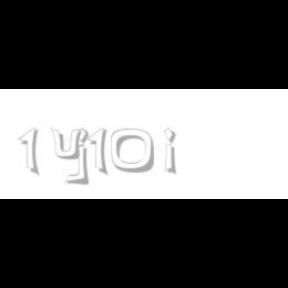1: (18, 128, 40, 176), (86, 128, 108, 176)
O: (110, 128, 156, 174)
i: (164, 128, 180, 176)
j: (74, 128, 104, 186)
u: (50, 128, 86, 160)
